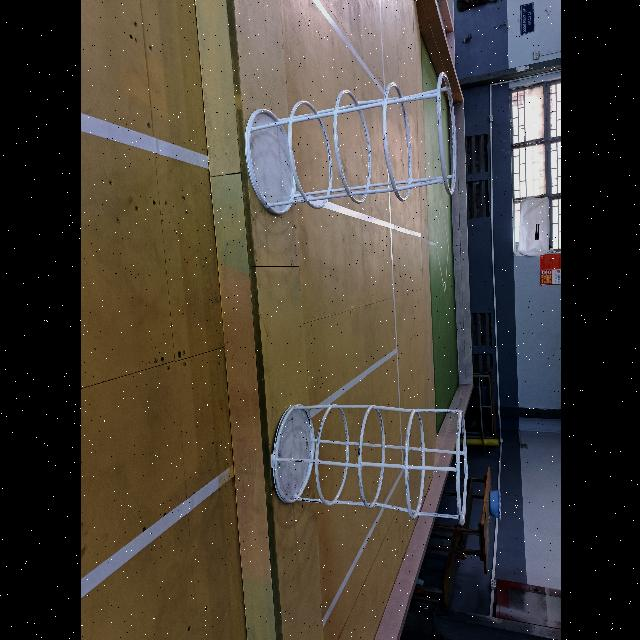S: (243, 72, 456, 216), (269, 404, 467, 526)
